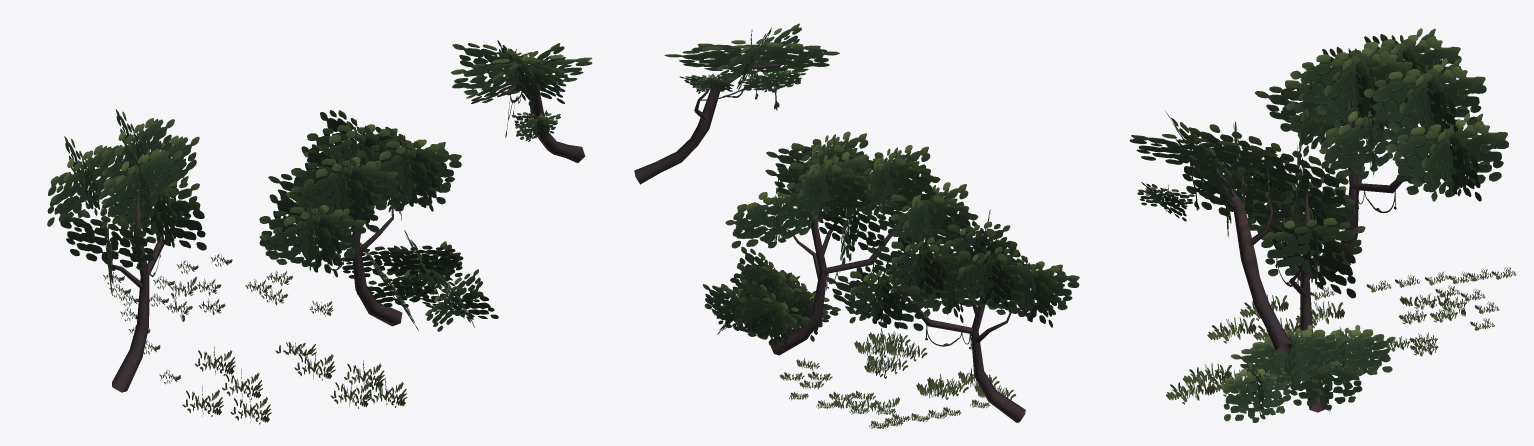
Rendered from Selvas04.fbx.
The picture shows the model from 3 angles, left to right: view 1: azimuth 30°, elevation 25°; view 2: azimuth 150°, elevation 25°; view 3: azimuth 270°, elevation 25°; orthographic projection. The views are drawn at different scales.
Visible parts, largest first — view 1: Selvas04; view 2: Selvas04; view 3: Selvas04.
Part boxes in pixels (x1,y1,x2,y2): Selvas04: (47,40,592,424); Selvas04: (634,23,1079,428); Selvas04: (1129,28,1516,422).
Size of the model in its own units: 116 by 68.49 by 72.52.
